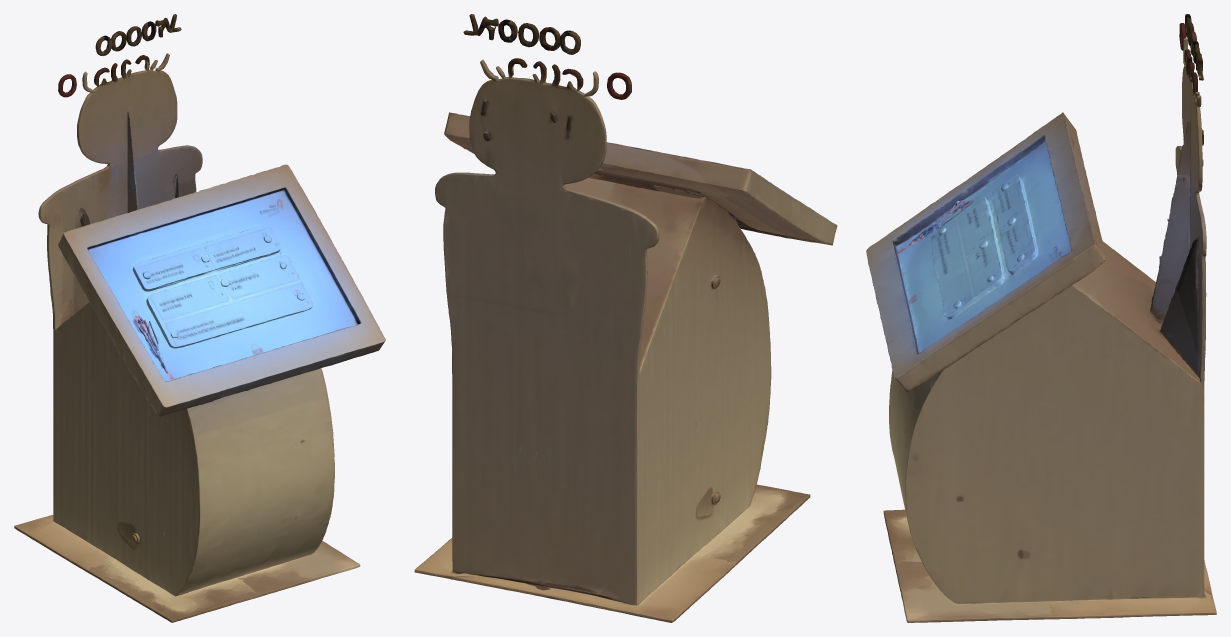
File: technology-04.glb
3 views of the same model, side by side, from view 1: azimuth 30°, elevation 25°; view 2: azimuth 150°, elevation 25°; view 3: azimuth 270°, elevation 25° (orthographic). The views are drawn at different scales.
Bounding box in the file's own units: 0.768 × 1.39 × 0.8242.
1 material, 1 textured.
